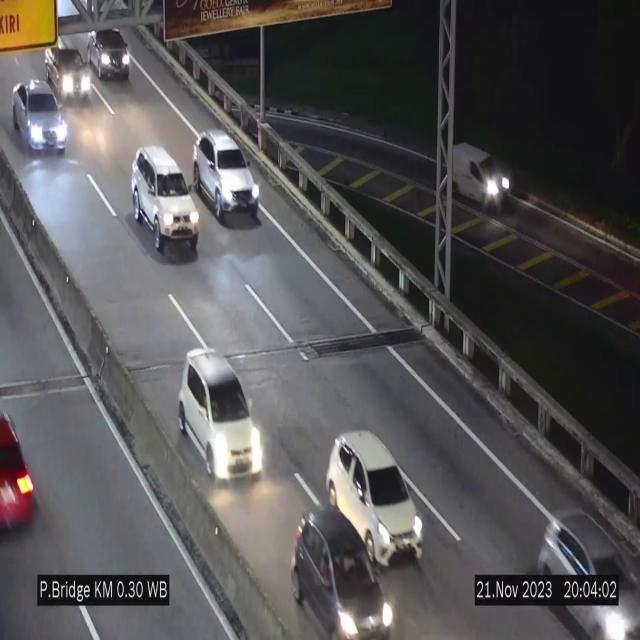Car: (527, 484, 640, 640), (289, 500, 389, 640), (327, 431, 423, 567), (179, 349, 263, 478), (0, 376, 46, 550), (131, 147, 199, 255), (437, 127, 513, 222), (193, 130, 259, 221), (12, 80, 68, 154), (46, 42, 92, 114), (91, 24, 130, 85)
